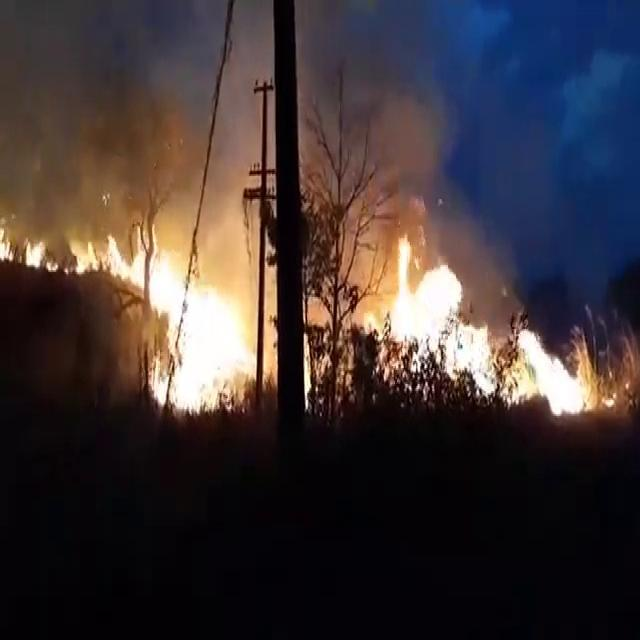Fire: (79, 228, 269, 418), (369, 225, 550, 404), (509, 327, 591, 418), (22, 232, 58, 274), (0, 217, 14, 265)
Smoke: (4, 0, 264, 252), (306, 3, 443, 255)
